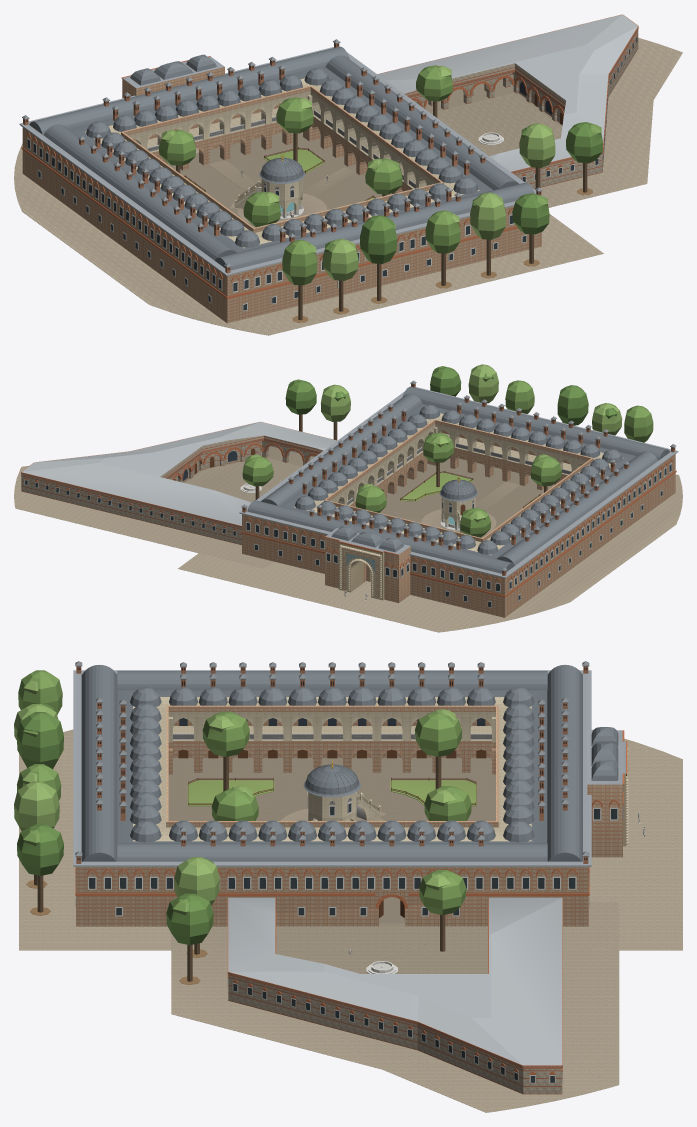
The model's file is koza-han_v12.glb.
The picture shows the model from 3 angles, top to bottom: view 1: azimuth 30°, elevation 25°; view 2: azimuth 150°, elevation 25°; view 3: azimuth 270°, elevation 25°; orthographic projection. The views are drawn at different scales.
Parts seen in each view (by area): view 1: Cevre_Doseme, Cati, Govde_Dis, Ic_Koza, Kubbe_Avlu, Avlu_Zemin, Avlu_Revak, Baca, Avlu_Agac, Cephe, Portal, Cevre_Agac_03 (+12 smaller); view 2: Cevre_Doseme, Ic_Koza, Cati, Govde_Dis, Kubbe_Avlu, Avlu_Zemin, Avlu_Revak, Portal, Baca, Avlu_Agac, Cephe, Cevre_Agac_03 (+11 smaller); view 3: Cevre_Doseme, Cati, Ic_Koza, Govde_Dis, Avlu_Zemin, Kubbe_Avlu, Avlu_Revak, Avlu_Agac, Baca, Cephe, Portal, Avlu_Cim (+11 smaller).
Part boxes in pixels (x1,y1,x2,y2): Cevre_Doseme: (14,38,682,335); Cati: (19,46,544,275); Govde_Dis: (22,67,541,323); Ic_Koza: (377,14,638,188); Kubbe_Avlu: (86,68,478,247); Avlu_Zemin: (168,74,562,227); Avlu_Revak: (85,78,479,248); Baca: (22,39,542,273); Avlu_Agac: (159,65,452,227); Cephe: (26,92,526,311); Portal: (121,54,224,98); Cevre_Agac_03: (360,215,396,303); Cevre_Doseme: (14,466,682,632); Ic_Koza: (21,421,337,544); Cati: (239,386,678,578); Govde_Dis: (242,404,675,617); Kubbe_Avlu: (295,404,622,554); Avlu_Zemin: (183,446,554,537); Avlu_Revak: (294,413,623,555); Portal: (324,526,410,602); Baca: (241,380,675,575); Avlu_Agac: (242,432,561,537); Cephe: (245,458,672,607); Cevre_Agac_03: (557,385,588,425); Cevre_Doseme: (19,729,682,1112); Cati: (73,664,591,866); Ic_Koza: (227,897,562,1094); Govde_Dis: (76,690,588,926); Avlu_Zemin: (168,758,495,973); Kubbe_Avlu: (130,687,534,842); Avlu_Revak: (133,697,531,841); Avlu_Agac: (202,709,471,951); Baca: (75,661,589,863); Cephe: (75,791,623,916); Portal: (587,727,628,857); Avlu_Cim: (187,777,476,806).
Size of the model in its own units: 134 by 16.42 by 93.97.
40 materials, 16 textured.
